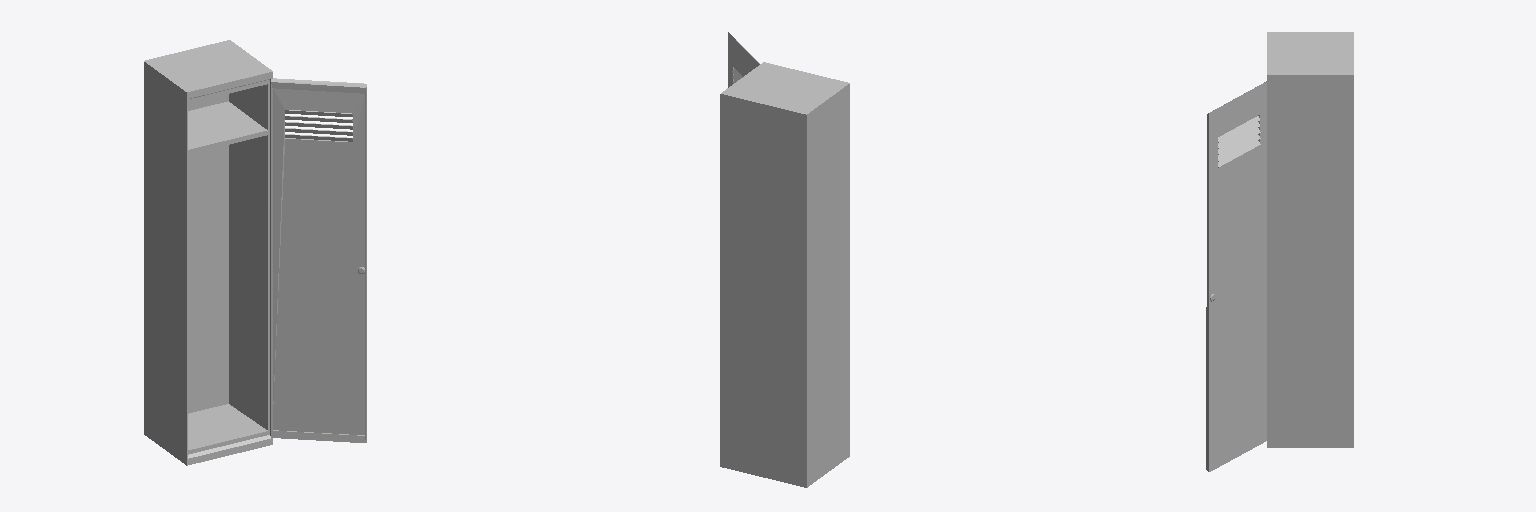
File: Locker.obj
The picture shows the model from 3 angles: view 1: azimuth 30°, elevation 25°; view 2: azimuth 150°, elevation 25°; view 3: azimuth 270°, elevation 25°; orthographic projection.
Visible parts, largest first — view 1: M.O.C, M.O.C.001; view 2: M.O.C, M.O.C.001; view 3: M.O.C, M.O.C.001.
Boxes of the visible parts, box(x1,y1,x2,y2) form: M.O.C: box(144, 40, 272, 465); M.O.C.001: box(271, 78, 366, 442); M.O.C: box(720, 62, 849, 487); M.O.C.001: box(728, 32, 759, 87); M.O.C: box(1267, 32, 1353, 447); M.O.C.001: box(1206, 81, 1266, 471).
Size of the model in its own units: 0.8433 by 1.99 by 0.7117.